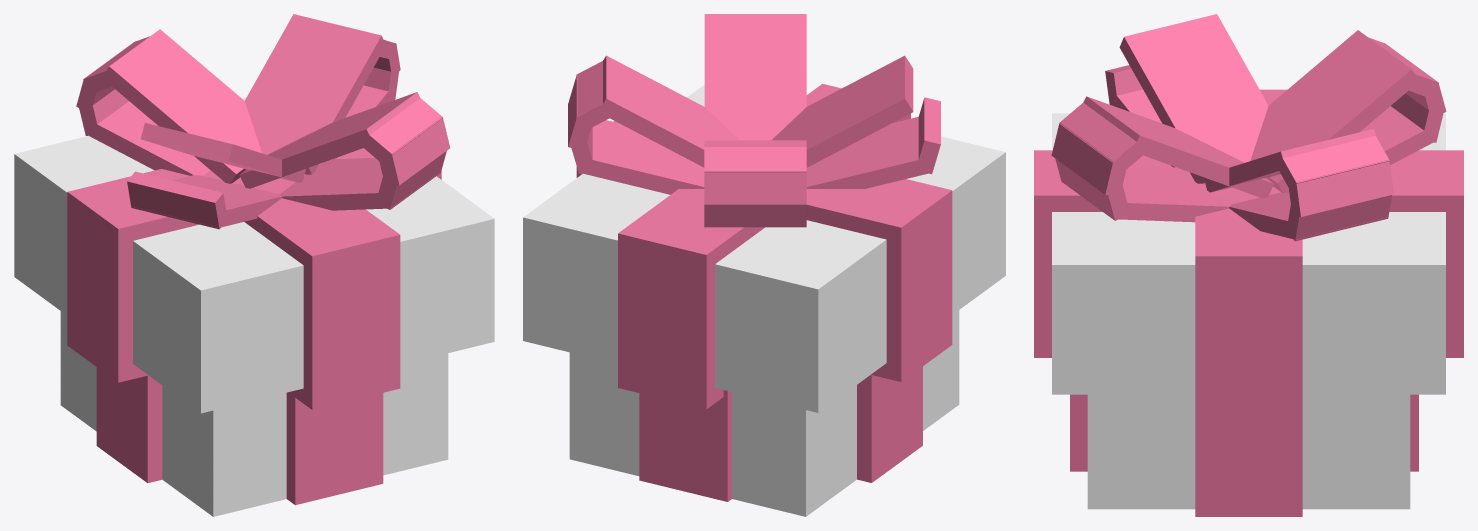
Rendered from present.glb.
3 views of the same model, side by side, from view 1: azimuth 30°, elevation 25°; view 2: azimuth 150°, elevation 25°; view 3: azimuth 270°, elevation 25° (orthographic). The views are drawn at different scales.
Parts seen in each view (by area): view 1: box.012; view 2: box.012; view 3: box.012.
Part boxes in pixels (x1,y1,x2,y2): box.012: [14, 14, 494, 516]; box.012: [523, 14, 1005, 516]; box.012: [1034, 14, 1463, 516].
Size of the model in its own units: 1.58 by 1.6 by 1.68.
